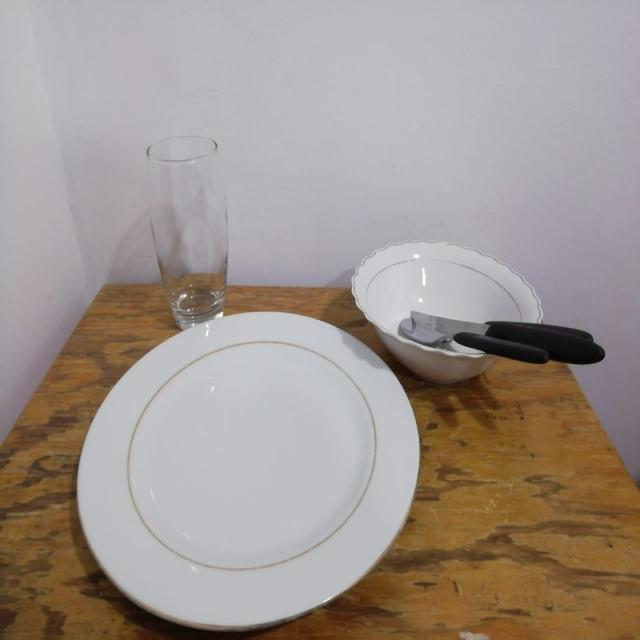non-organic waste: (75, 268, 411, 638), (323, 197, 547, 401)
